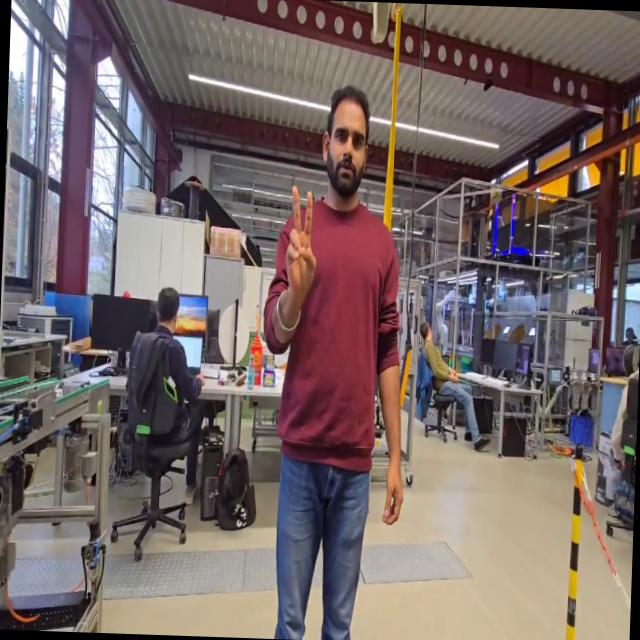v_sign: (280, 182, 320, 310)
